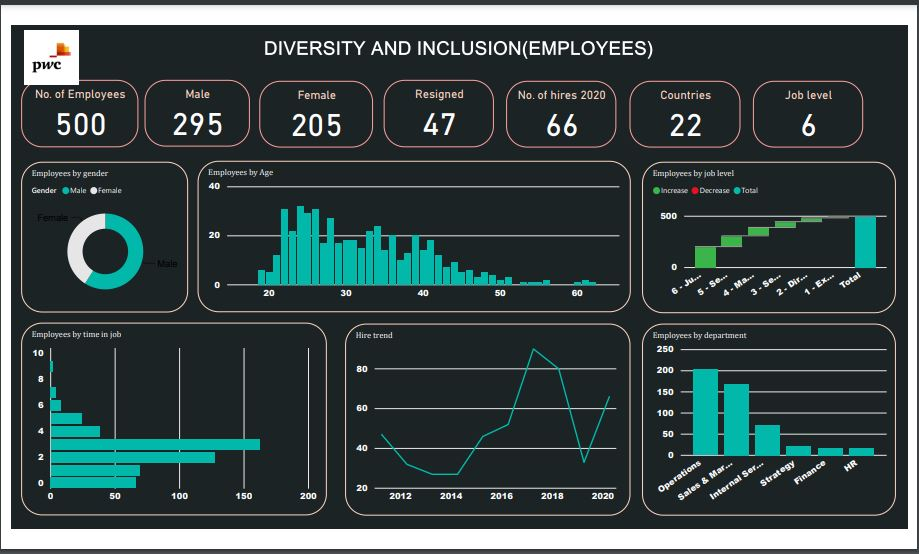

Layout of this report page (visuals, bound fields, positions):
{"tool":"powerbi","page":{"name":"Page 1","canvas":[1280,720],"ordinal":0},"visuals":[{"type":"card","title":"No. of Employees","fields":{"Values":["CountNonNull(Pharma Group AG.Employee ID)"]},"box":[15.1,78.5,166.6,96.4],"z":0},{"type":"card","title":"Male","fields":{"Values":["CountNonNull(Pharma Group AG.Gender)"]},"box":[191.4,78.5,150.1,95],"z":1000},{"type":"card","title":"Female","fields":{"Values":["CountNonNull(Pharma Group AG.Employee ID)"]},"box":[355.2,79.8,162.4,95],"z":2000},{"type":"donutChart","title":"Employees by gender","fields":{"Y":["CountNonNull(Pharma Group AG.Gender)"],"Category":["Pharma Group AG.Gender"]},"box":[15.1,195.5,238.2,214.8],"z":3000},{"type":"card","title":"Resigned","fields":{"Values":["CountNonNull(Pharma Group AG.Leaver FY)"]},"box":[532.8,78.5,156.9,96.4],"z":4000},{"type":"columnChart","title":"Employees by Age","fields":{"Category":["Pharma Group AG.Age @01.07.2020"],"Y":["CountNonNull(Pharma Group AG.Age @01.07.2020)"]},"box":[267.1,194.1,618.1,216.1],"z":5000},{"type":"barChart","title":"Employees by time in job","fields":{"Category":["Pharma Group AG.Time in Job Level @01.07.2020"],"Y":["CountNonNull(Pharma Group AG.Time in Job Level @01.07.2020)"]},"box":[15.1,425.4,436.4,275.3],"z":6000},{"type":"lineChart","title":"Hire trend","fields":{"Category":["Pharma Group AG.Last hire date"],"Y":["CountNonNull(Pharma Group AG.Employee ID)"]},"box":[477.7,426.8,407.5,274],"z":7000},{"type":"card","title":"No. of hires 2020","fields":{"Values":["CountNonNull(Pharma Group AG.New hire FY20?)"]},"box":[707.6,79.8,156.9,95],"z":8000},{"type":"card","title":"Countries","fields":{"Values":["Count(Pharma Group AG.Nationality 1)"]},"box":[883.8,79.8,158.3,95],"z":9000},{"type":"card","title":"Job level","fields":{"Values":["Count(Pharma Group AG.Job Level after FY20 promotions)"]},"box":[1060,79.8,156.9,95],"z":10000},{"type":"waterfallChart","title":"Employees by job level","fields":{"Category":["Pharma Group AG.Job Level after FY20 promotions"],"Y":["CountNonNull(Pharma Group AG.Employee ID)"]},"box":[901.7,195.3,362,215.6],"z":11000},{"type":"columnChart","title":"Employees by department","fields":{"Y":["CountNonNull(Pharma Group AG.Employee ID)"],"Category":["Pharma Group AG.Department @01.07.2020"]},"box":[901.7,427.1,362,273.9],"z":12000},{"type":"textbox","box":[15.1,9.6,1248.6,56.4],"z":13000},{"type":"image","box":[0,2.8,117,86.7],"z":13001}]}

Visuals, with their boxes on the page's 1280x720 design canvas (x1, y1, x2, y2). These are canvas units, not pixel positions in the 919x554 screenshot, which may show the page scaled, cropped or inside an application window:
"No. of Employees" card: l=15, t=78, r=182, b=175
"Male" card: l=191, t=78, r=342, b=174
"Female" card: l=355, t=80, r=518, b=175
"Employees by gender" donutChart: l=15, t=196, r=253, b=410
"Resigned" card: l=533, t=78, r=690, b=175
"Employees by Age" columnChart: l=267, t=194, r=885, b=410
"Employees by time in job" barChart: l=15, t=425, r=452, b=701
"Hire trend" lineChart: l=478, t=427, r=885, b=701
"No. of hires 2020" card: l=708, t=80, r=864, b=175
"Countries" card: l=884, t=80, r=1042, b=175
"Job level" card: l=1060, t=80, r=1217, b=175
"Employees by job level" waterfallChart: l=902, t=195, r=1264, b=411
"Employees by department" columnChart: l=902, t=427, r=1264, b=701
textbox: l=15, t=10, r=1264, b=66
image: l=0, t=3, r=117, b=90
